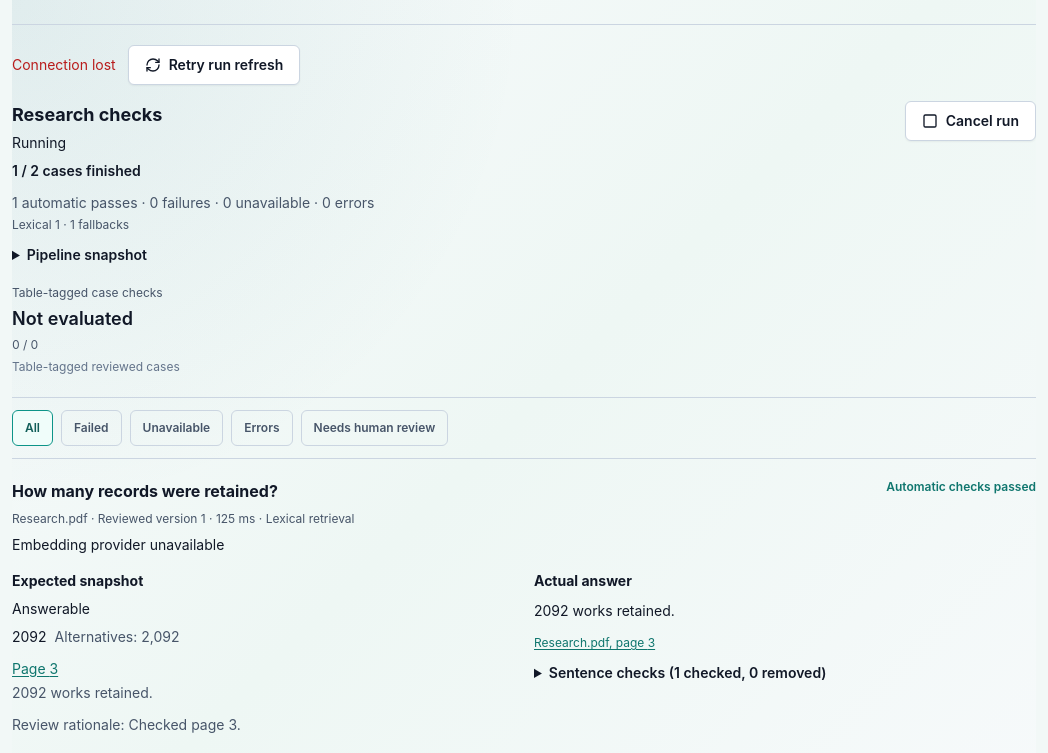
BenchmarkRunResults › retains results after a polling failure and retries
The width and height of the screenshot is (1048, 753).
Check: the message "Connection lost" is shown, box [12, 55, 116, 75]
Check: the heading "How many records were retained?" is shown, box [12, 481, 278, 501]
Step 1. Click the button "Retry run refresh" → {"x": 214, "y": 65}, box [128, 45, 300, 85]
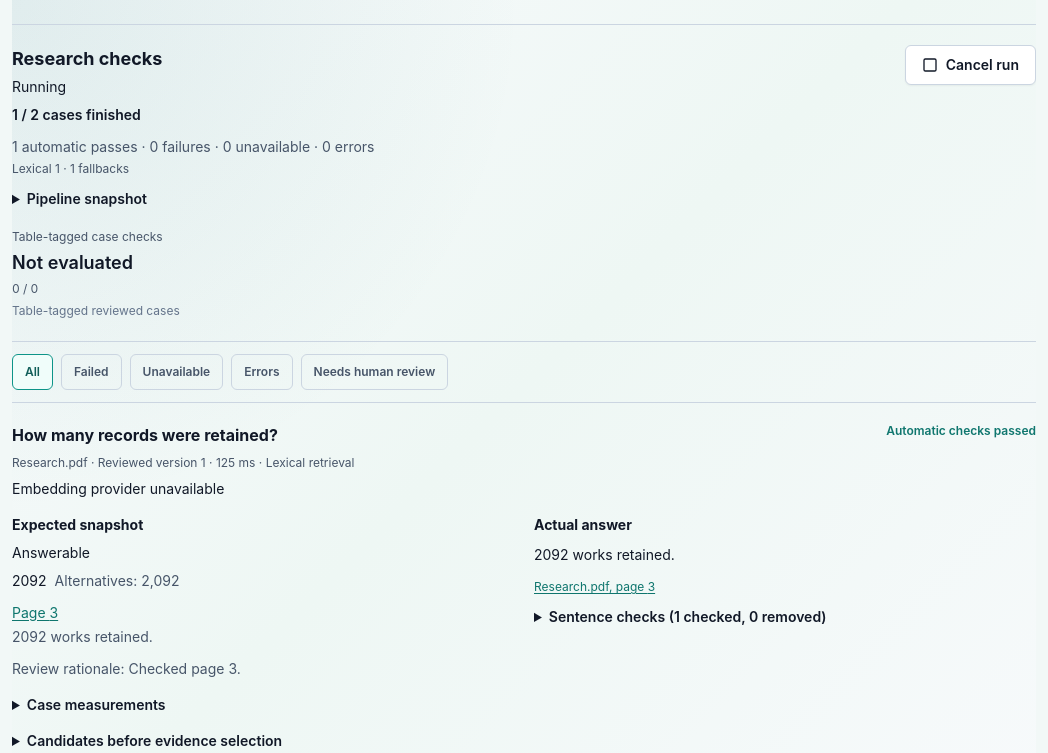
Check: the message "Connection lost" is gone
